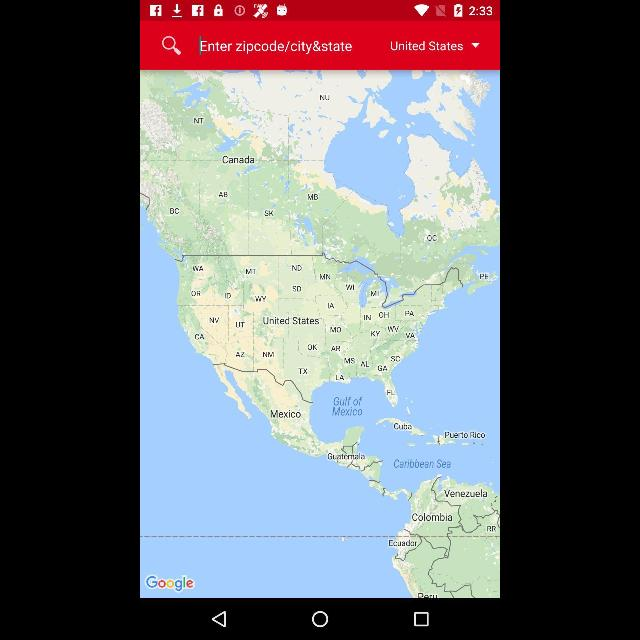icon: (160, 34, 182, 58), (310, 610, 330, 630), (210, 610, 228, 628), (412, 610, 430, 628)
input: (198, 36, 354, 56)
map: (140, 70, 500, 598)
panel: (141, 598, 499, 638)
spinner: (390, 40, 480, 54)
toolbar: (141, 20, 499, 70)
uppertaskbar: (140, 1, 500, 20)
